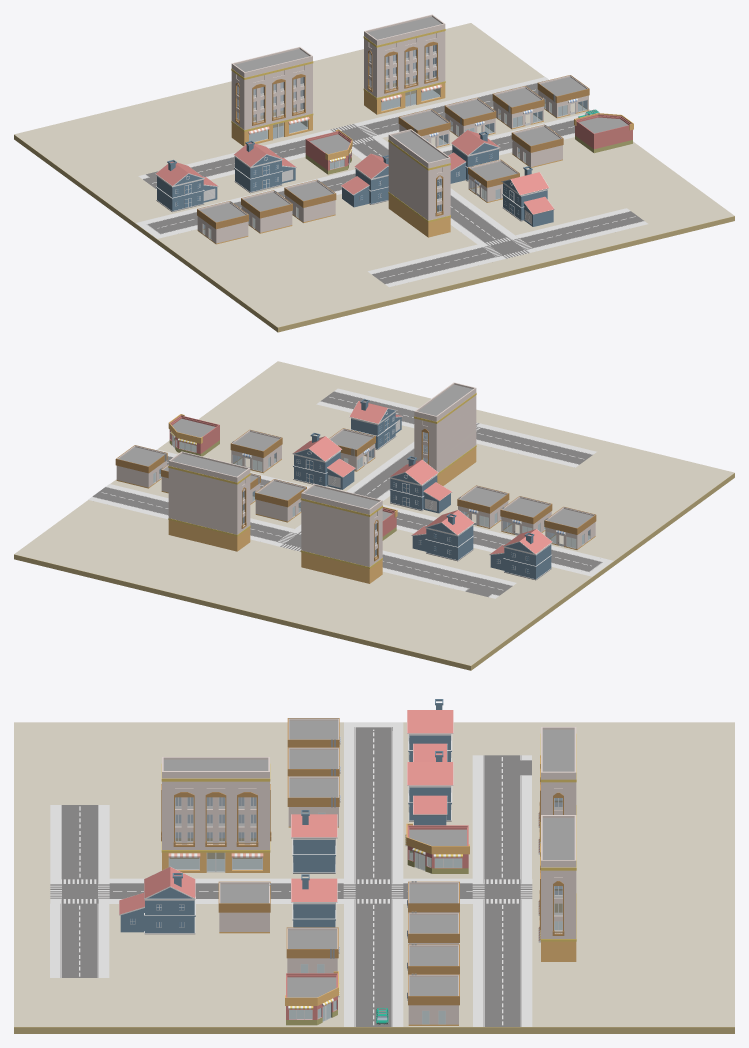
The model's file is Projectfile_v1.gltf.
3 views of the same model, one above another, from view 1: azimuth 30°, elevation 25°; view 2: azimuth 150°, elevation 25°; view 3: azimuth 270°, elevation 25° (orthographic). The views are drawn at different scales.
Parts seen in each view (by area): view 1: Plane, House-Pink Light (×10), house-dark blue (×5), Cube, Road (×6), House-Orange (×3), Roof (×3), House.1-Mat.5 (×2), house-Mat.5 (×2); view 2: Plane, House-Pink Light (×7), house-dark blue (×5), Roof (×9), Cube, Road (×7), House-Orange (×3), house-Mat.5 (×4), House.1-Mat.5; view 3: Plane, Road (×30), House-Pink Light (×7), Roof (×14), house-Mat.5 (×5), Cube, house-dark blue (×4), House-Brown (×8), House-Orange (×2), Lines (×3), House.1-Mat.5 (×2), Cube.16-Mat.5 (×2) (+2 smaller).
Part boxes in pixels (x1=…): Plane: x1=14, y1=23, x2=734, y2=327; House-Pink Light (×10): x1=197, y1=14, x2=588, y2=243; house-dark blue (×5): x1=156, y1=143, x2=547, y2=220; Cube: x1=14, y1=134, x2=734, y2=332; Road (×6): x1=372, y1=211, x2=643, y2=283; House-Orange (×3): x1=231, y1=75, x2=450, y2=237; Roof (×3): x1=235, y1=16, x2=446, y2=162; House.1-Mat.5 (×2): x1=305, y1=114, x2=632, y2=170; house-Mat.5 (×2): x1=451, y1=130, x2=548, y2=194; Plane: x1=14, y1=361, x2=734, y2=665; House-Pink Light (×7): x1=116, y1=382, x2=595, y2=566; house-dark blue (×5): x1=293, y1=409, x2=551, y2=579; Roof (×9): x1=119, y1=384, x2=593, y2=527; Cube: x1=14, y1=473, x2=734, y2=670; Road (×7): x1=92, y1=436, x2=596, y2=597; House-Orange (×3): x1=168, y1=447, x2=476, y2=583; house-Mat.5 (×4): x1=293, y1=401, x2=551, y2=553; House.1-Mat.5: x1=169, y1=415, x2=219, y2=453; Plane: x1=14, y1=722, x2=734, y2=1026; Road (×30): x1=50, y1=731, x2=532, y2=1026; House-Pink Light (×7): x1=162, y1=727, x2=576, y2=1024; Roof (×14): x1=163, y1=720, x2=574, y2=997; house-Mat.5 (×5): x1=144, y1=710, x2=453, y2=901; Cube: x1=14, y1=1027, x2=734, y2=1033; house-dark blue (×4): x1=144, y1=787, x2=451, y2=932; House-Brown (×8): x1=218, y1=718, x2=459, y2=1005; House-Orange (×2): x1=162, y1=838, x2=576, y2=961; Lines (×3): x1=50, y1=879, x2=532, y2=903; House.1-Mat.5 (×2): x1=286, y1=825, x2=468, y2=1019; Cube.16-Mat.5 (×2): x1=413, y1=743, x2=446, y2=814.
Bounding box in the file's own units: 2001 × 333 × 2000.
